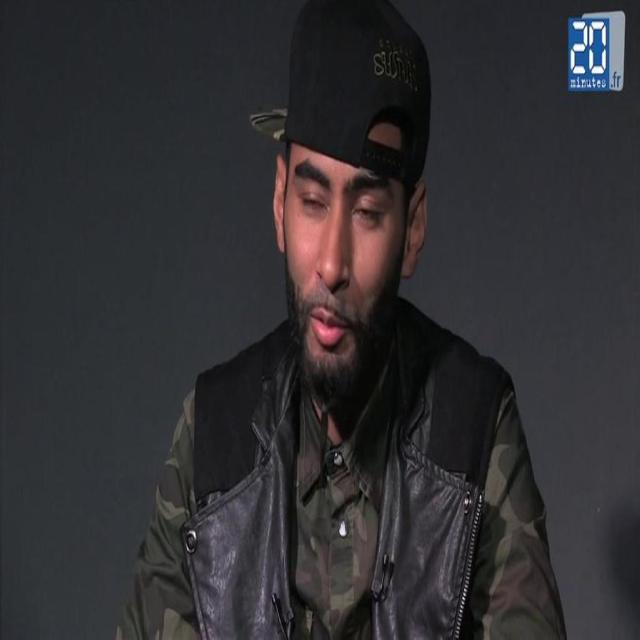Face: (280, 145, 400, 385)
